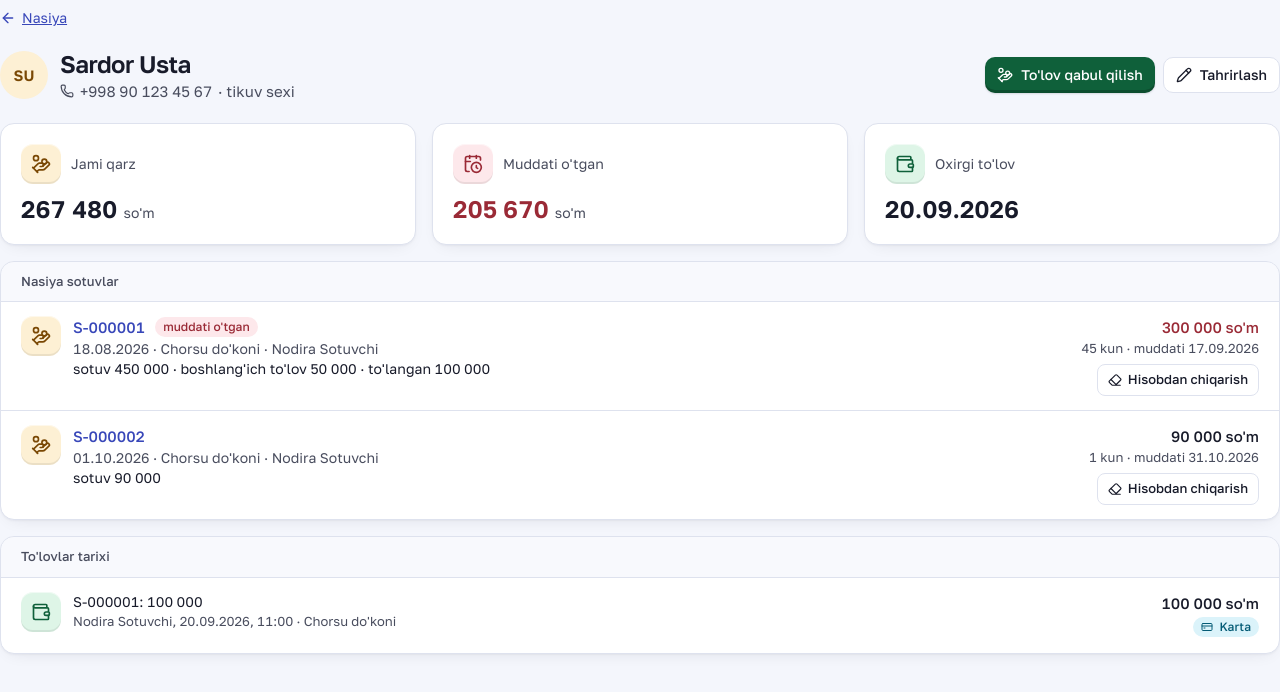
Test: Mijoz kartochkasi › to'lov: qarzdan ko'p qabul qilinmaydi; standart — eng eski qarzdan boshlab
Click the button "To'lov qabul qilish": x=1070, y=75 top-left (985, 57), bottom-right (1155, 93)
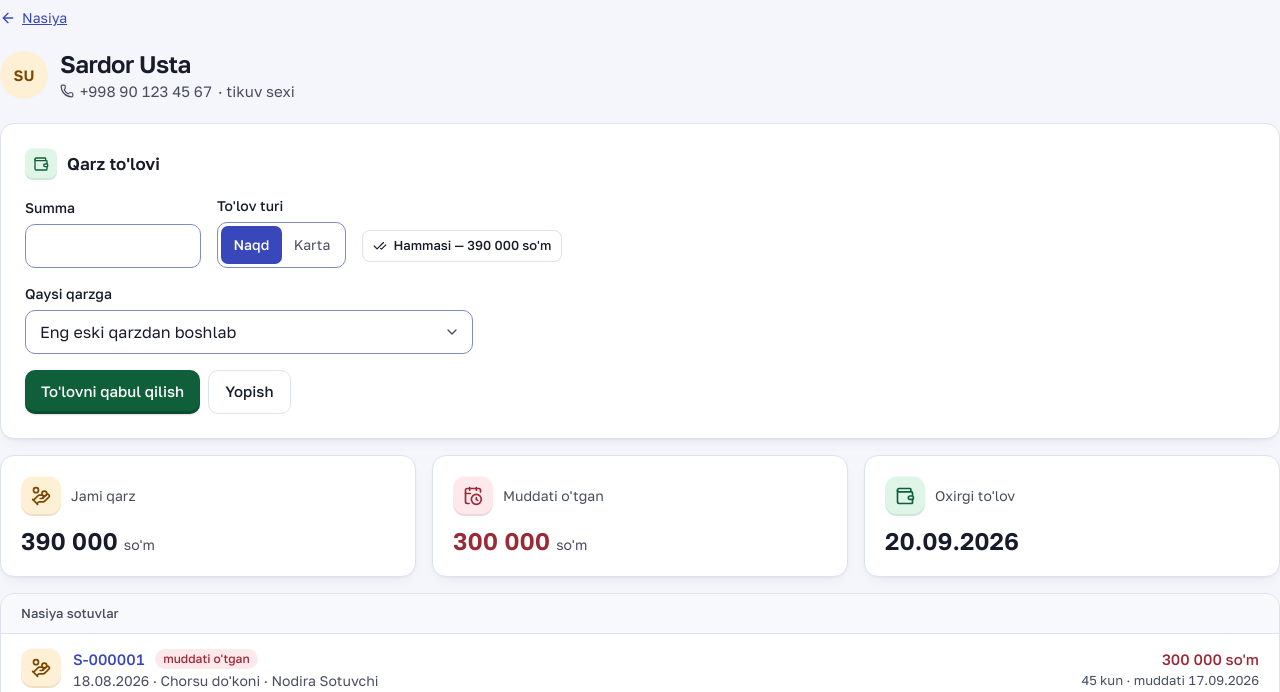
In the field named "Summa": x=113, y=246 top-left (25, 224), bottom-right (201, 268), type "400000"
Click the button "To'lovni qabul qilish": x=113, y=392 top-left (25, 370), bottom-right (200, 414)
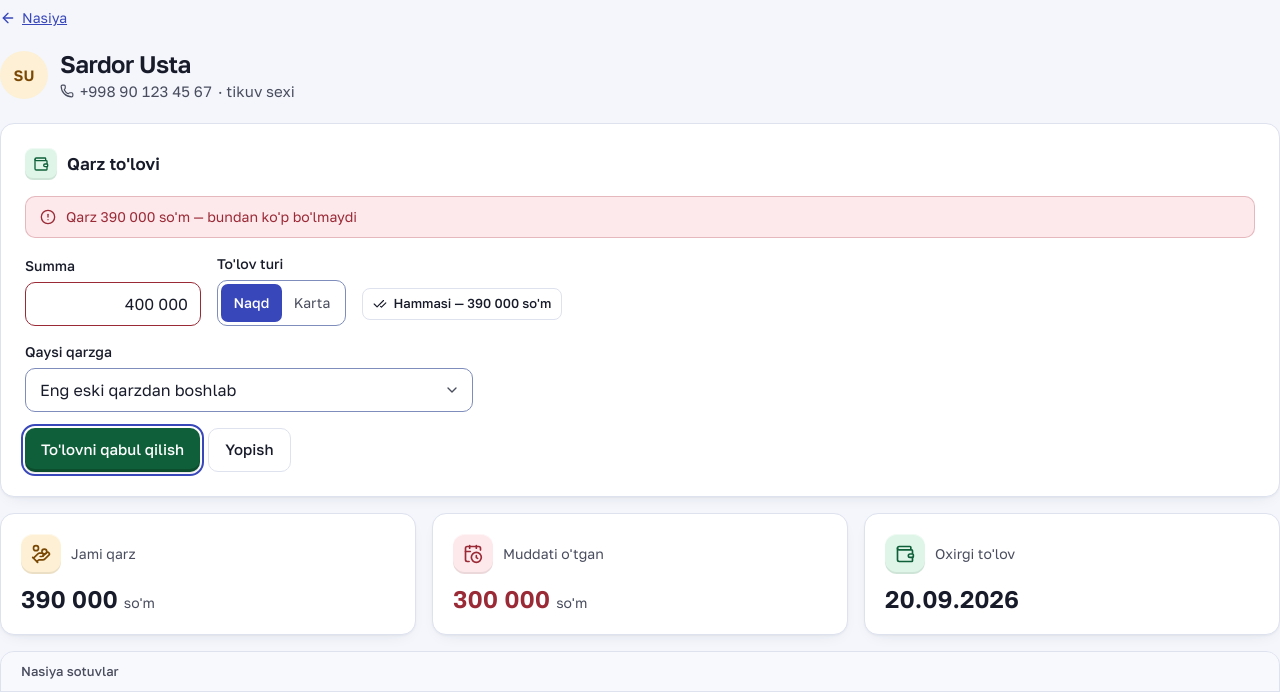
Check: the message reads "Qarz 390 000 so'm — bundan ko'p bo'lmaydi", box top-left (66, 208), bottom-right (357, 224)
Clear the field named "Summa": x=113, y=304 top-left (25, 282), bottom-right (201, 326)
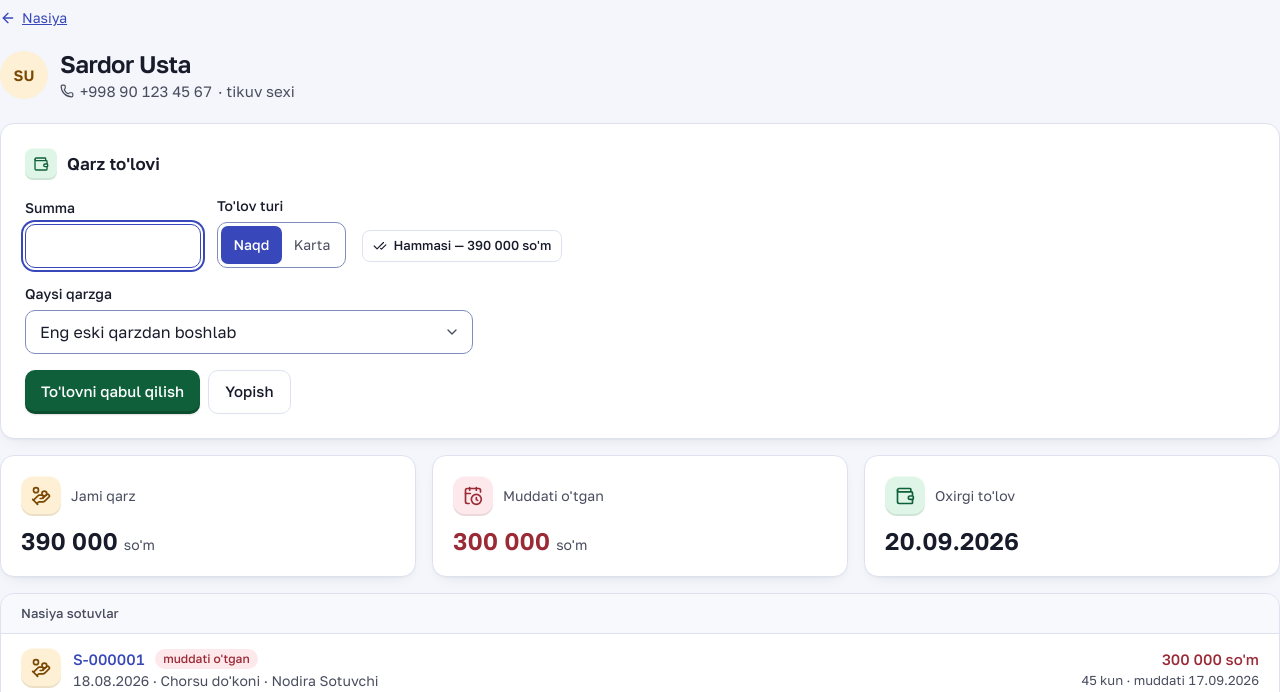
In the field named "Summa": x=113, y=246 top-left (25, 224), bottom-right (201, 268), type "150000"
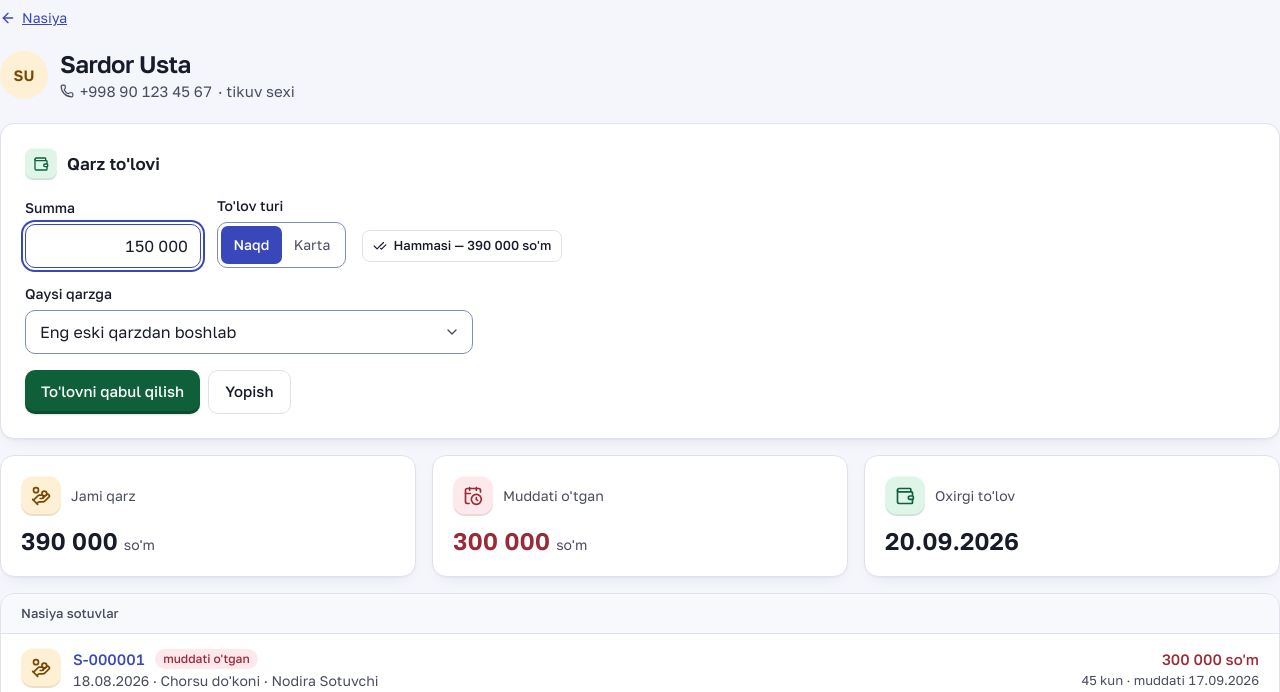
Click the radio button labelled "Karta": x=312, y=244 top-left (282, 226), bottom-right (342, 264)
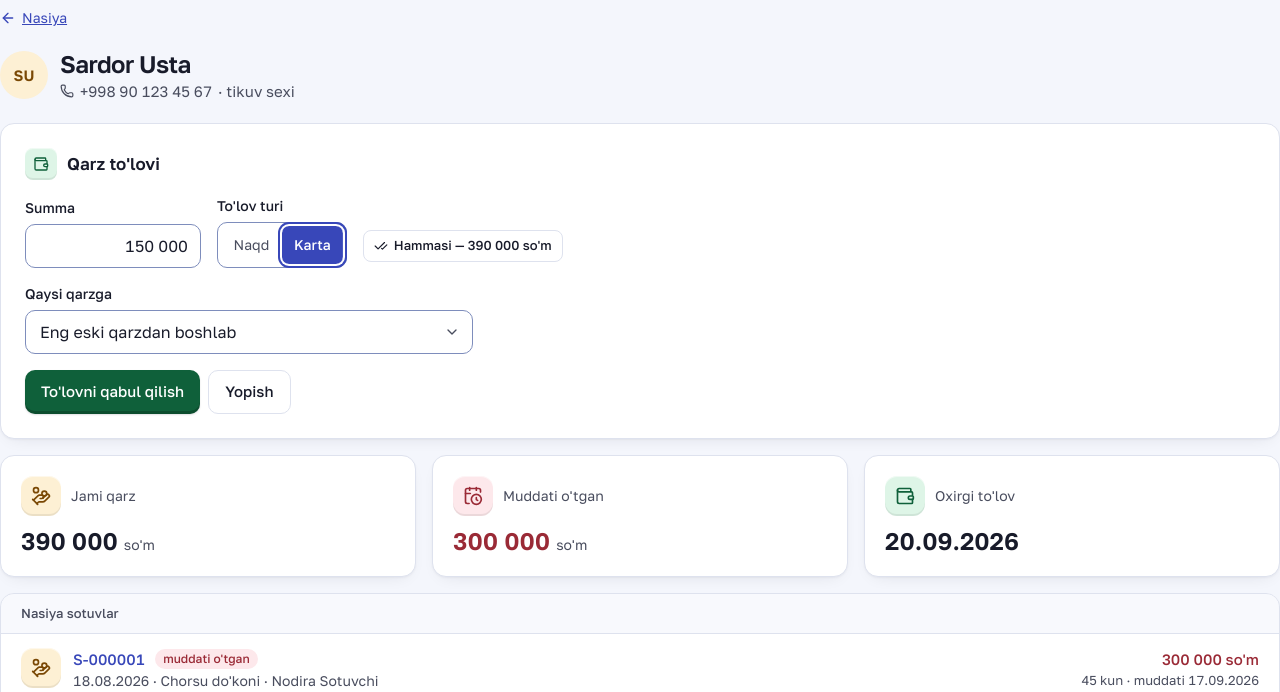
Click the button "To'lovni qabul qilish": x=113, y=392 top-left (25, 370), bottom-right (200, 414)
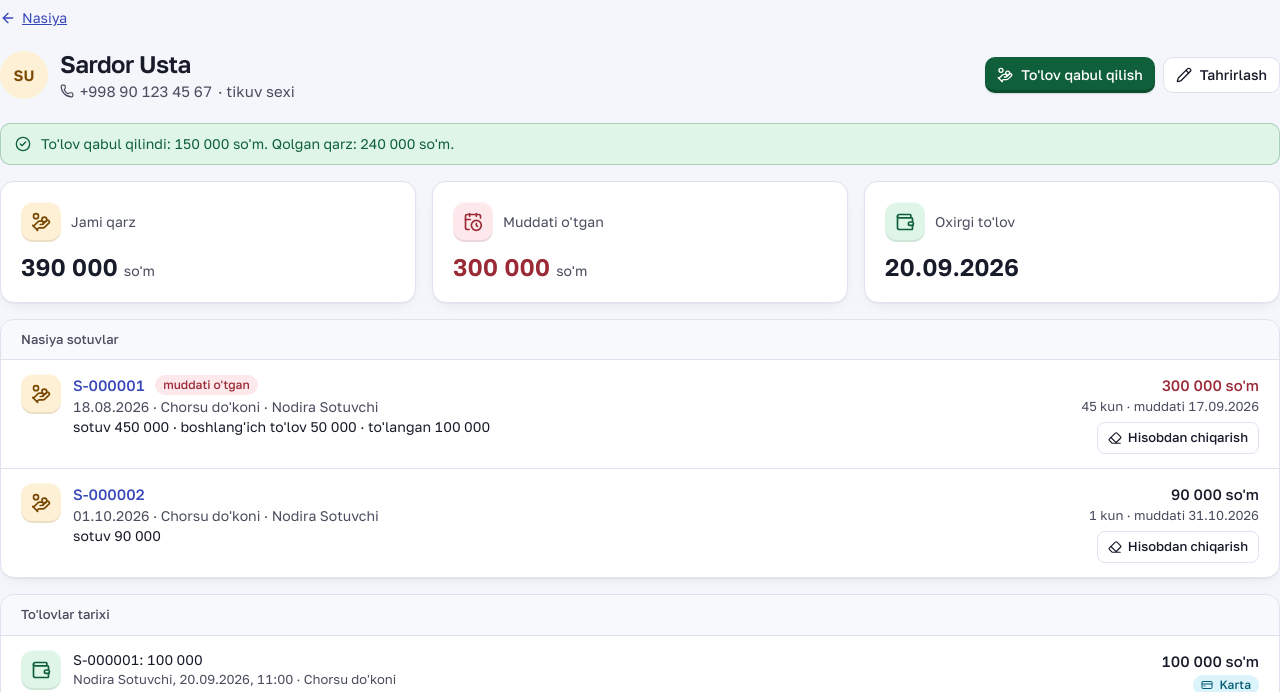
Check: the text "To'lov qabul qilindi: 150 000 so'm. Qolgan qarz: 240 000 so'm" is shown, box top-left (41, 134), bottom-right (454, 152)
